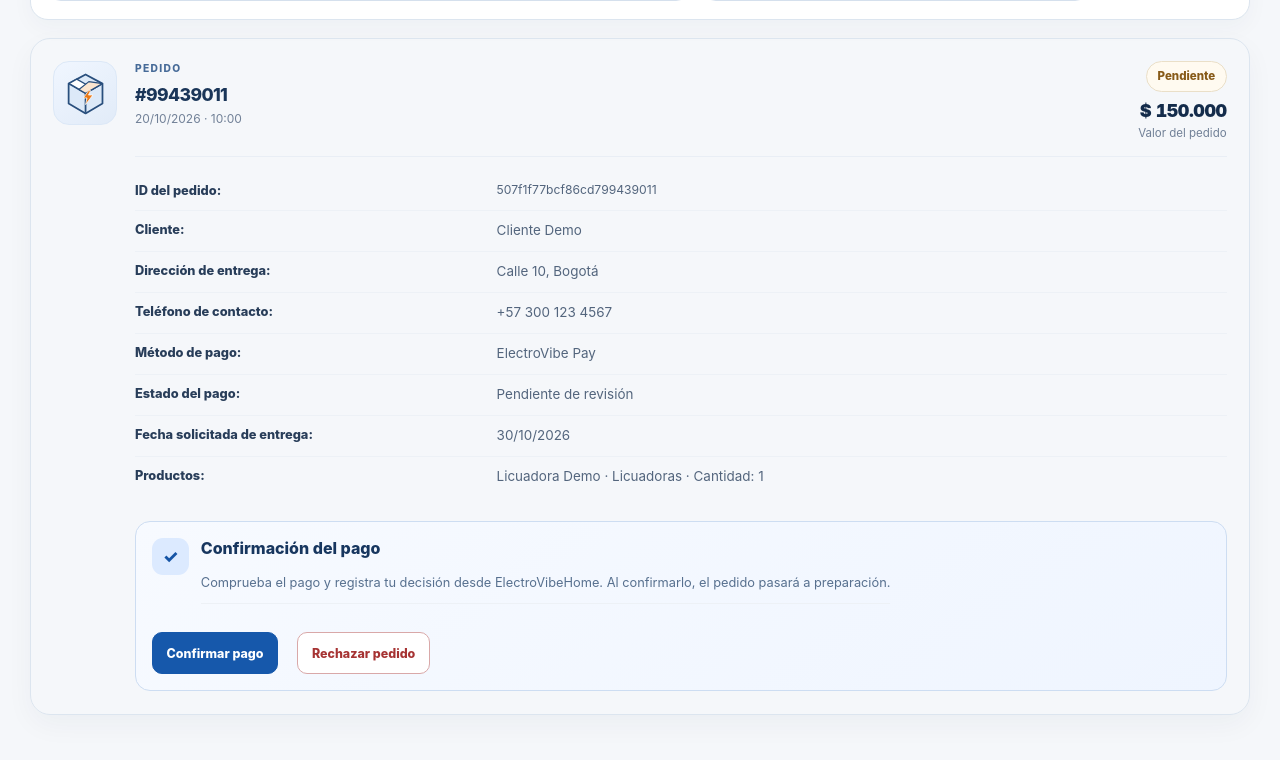
it: ListadoPedidos › lets an admin confirm payment with one click and advances the order
(page scrolled)
expect the heading "Confirmación del pago" is shown: met, box 201,538 -> 380,558
Click the button "Confirmar pago" at x=215, y=653, box 152,632 -> 278,674
(page scrolled)
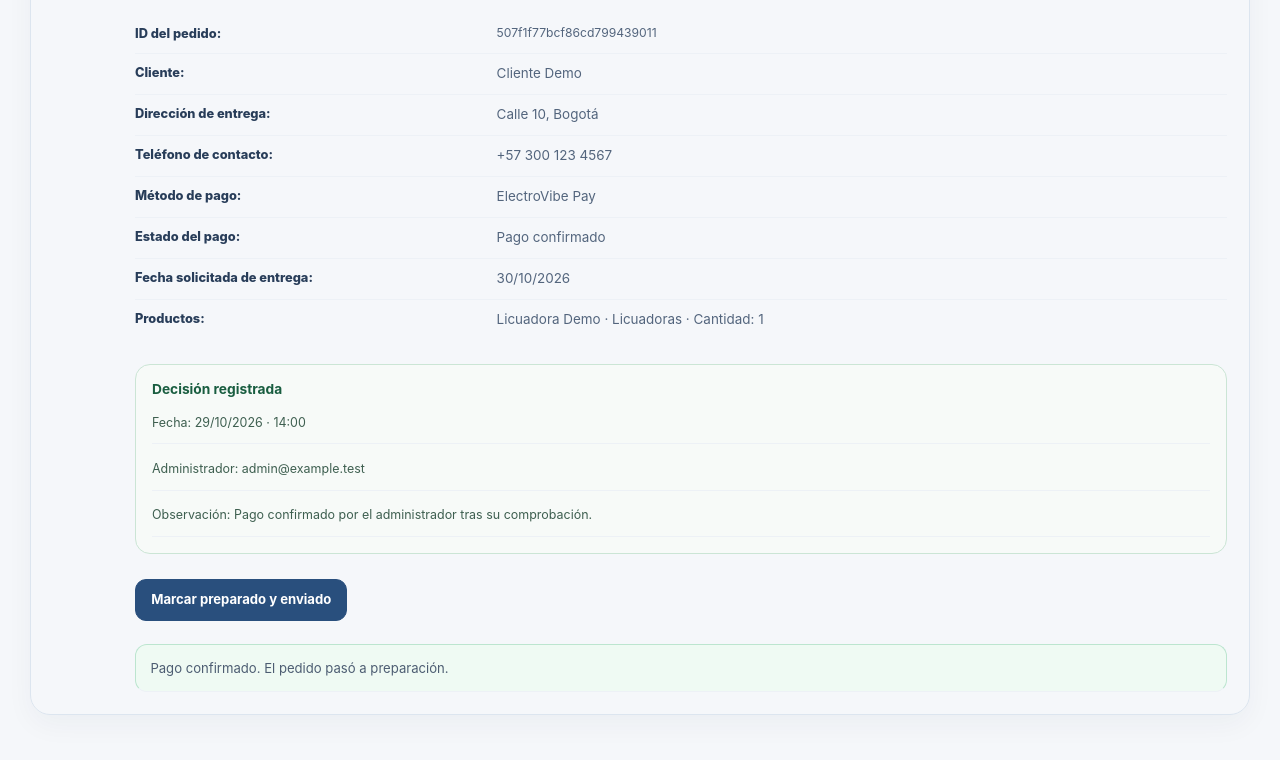
expect the text "Pago confirmado" is shown: met, box 497,229 -> 606,245
expect the text "Administrador: admin@example.test" is shown: met, box 152,449 -> 1210,491
expect the button "Marcar preparado y enviado" is shown: met, box 135,579 -> 348,621
